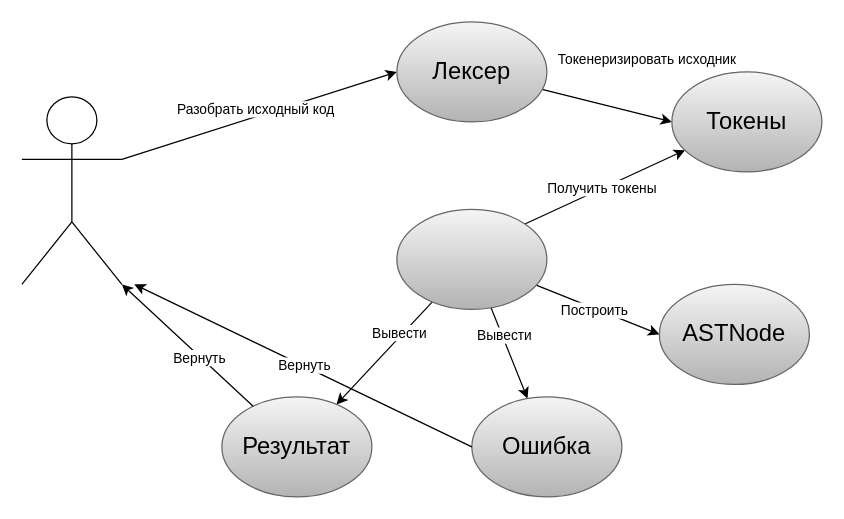
Some shapes in this 844 by 519 pixel diagram are drawn without their labels. The box of each missing label's shape, as (x1, y1, x2, y2) in pixels:
Actor: (21, 96, 122, 284)
Парсер: (396, 208, 547, 309)
